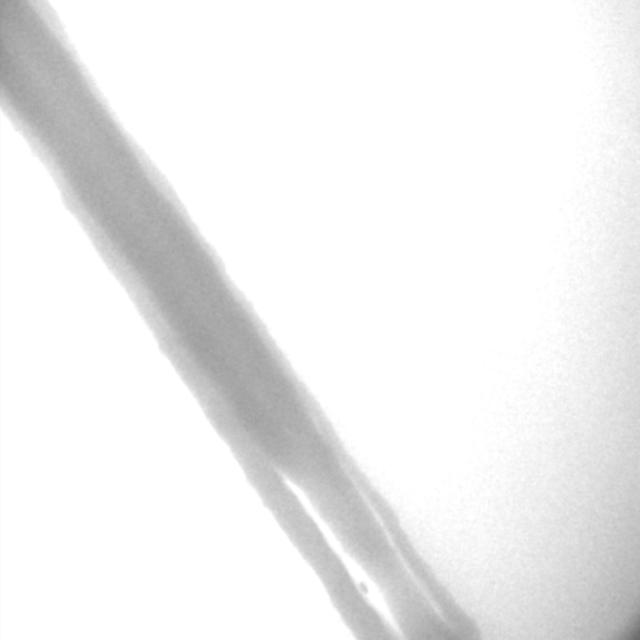unfused: (277, 471, 448, 620)
